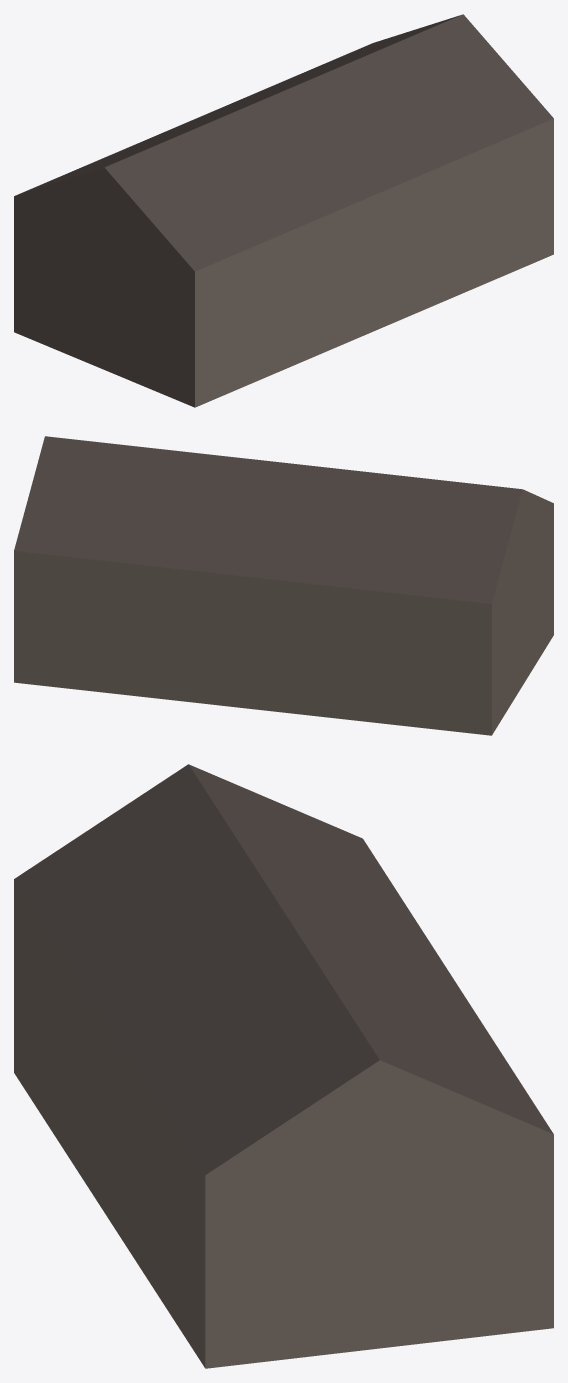
The picture shows the model from 3 angles, top to bottom: view 1: azimuth 30°, elevation 25°; view 2: azimuth 150°, elevation 25°; view 3: azimuth 270°, elevation 25°; orthographic projection. The views are drawn at different scales.
Parts seen in each view (by area): view 1: HP-w369317520; view 2: HP-w369317520; view 3: HP-w369317520.
Boxes of the visible parts, x1,y1,x2,y2 form: HP-w369317520: (14, 14, 553, 407); HP-w369317520: (14, 436, 553, 735); HP-w369317520: (14, 764, 553, 1368).
Bounding box in the file's own units: 22.37 × 8.93 × 15.17.
